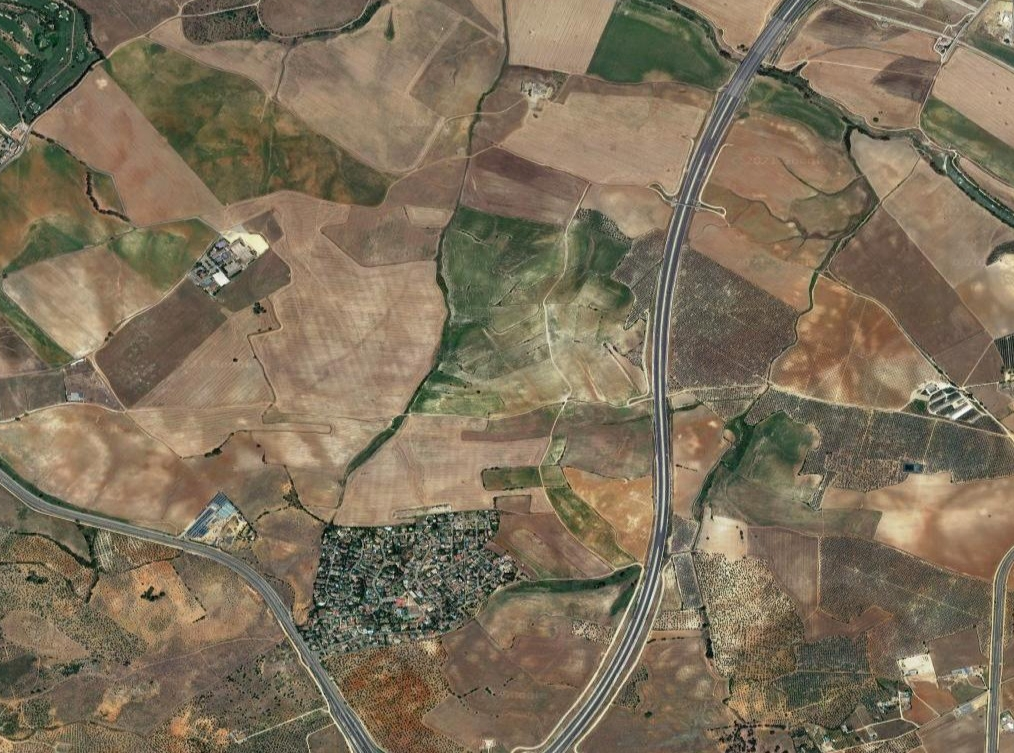motorway: (692, 1, 808, 203), (606, 434, 686, 688), (636, 193, 700, 440), (274, 606, 375, 753), (148, 528, 294, 608), (1, 461, 146, 541), (523, 676, 610, 753), (983, 540, 1014, 753)
